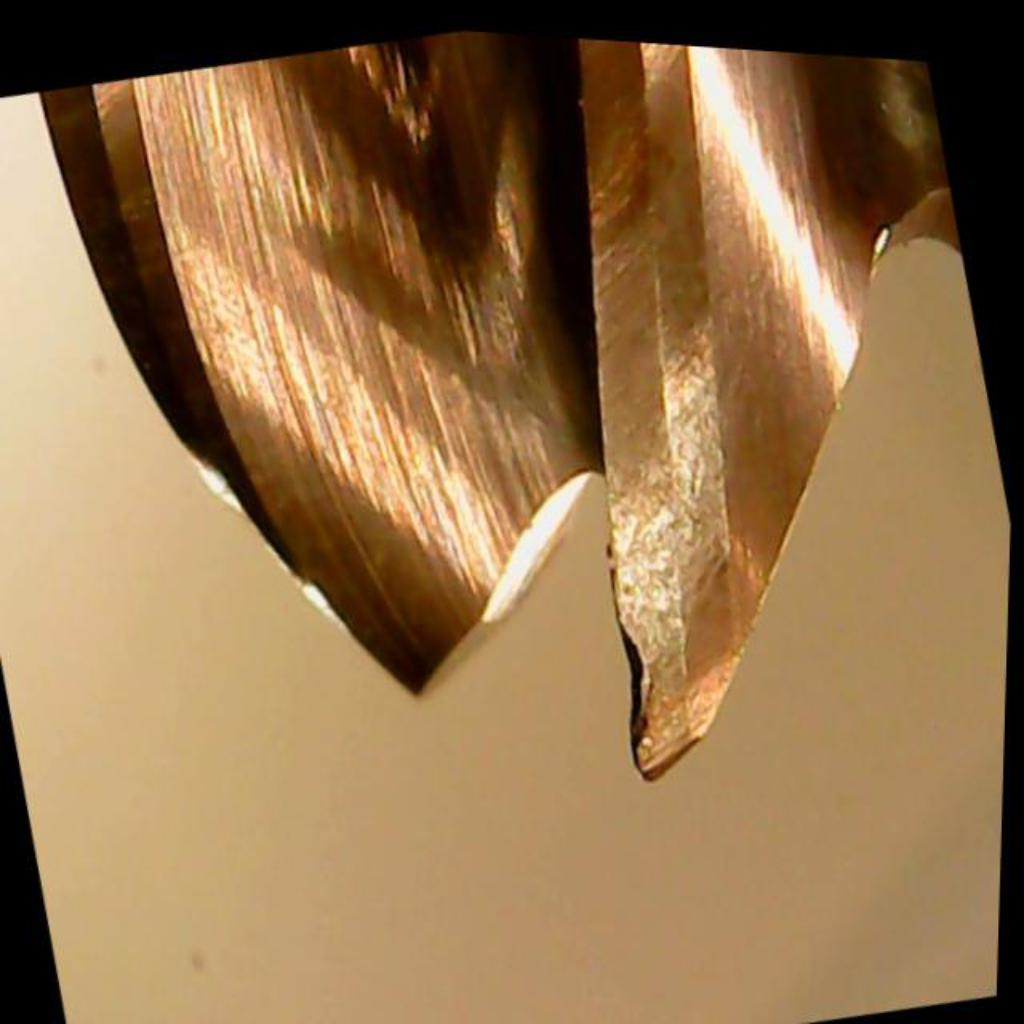Tool-wear-class-1: (527, 312, 810, 793)
